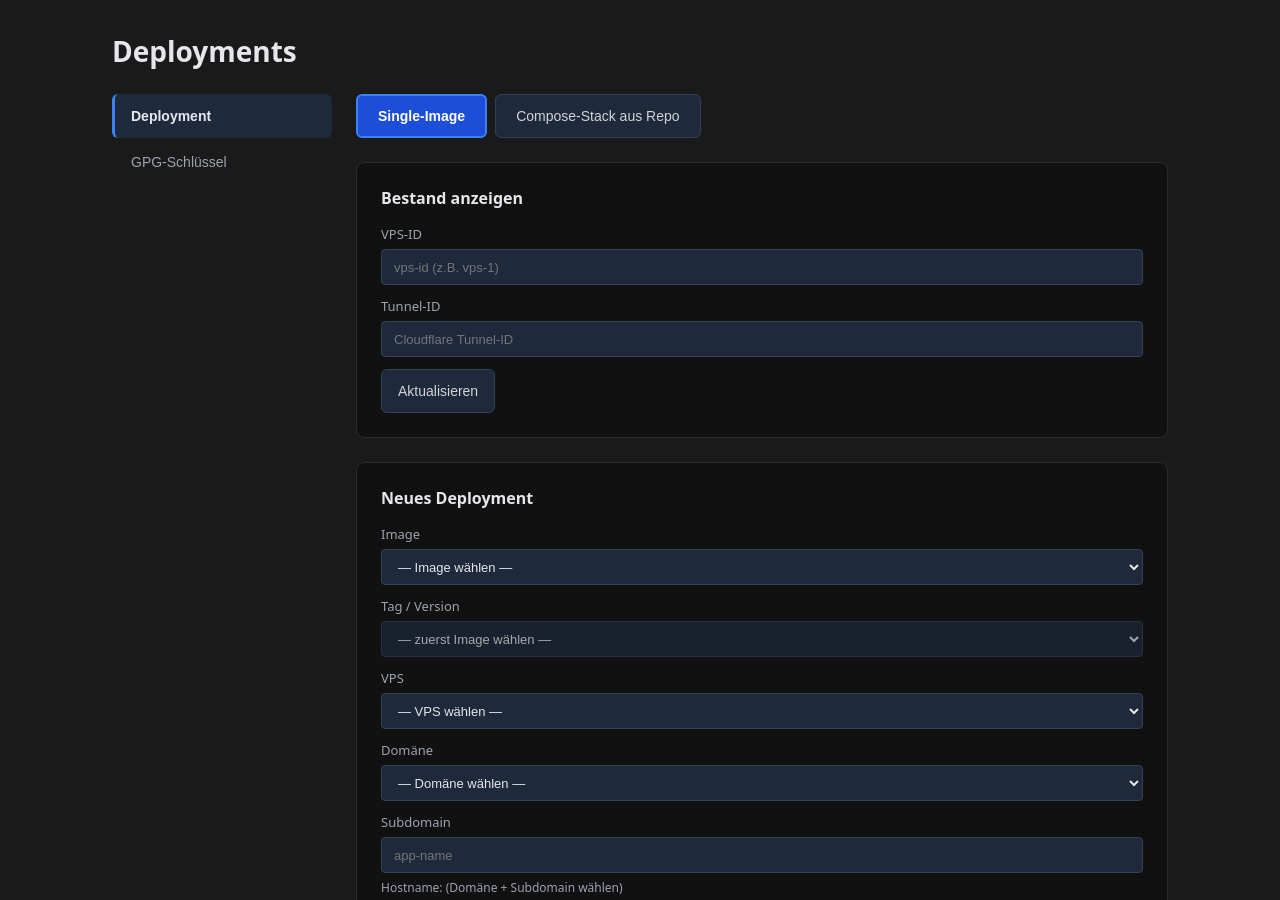
Test: AC9 — Readiness-Badge: Text je Zustand › shows "⏳ VPS wird hochgefahren…" for unreachable state
Select "vps-1" in the dropdown with id "deploy-vps-select" at point(762, 711), box [381, 693, 1143, 729]
Wait 100 ms
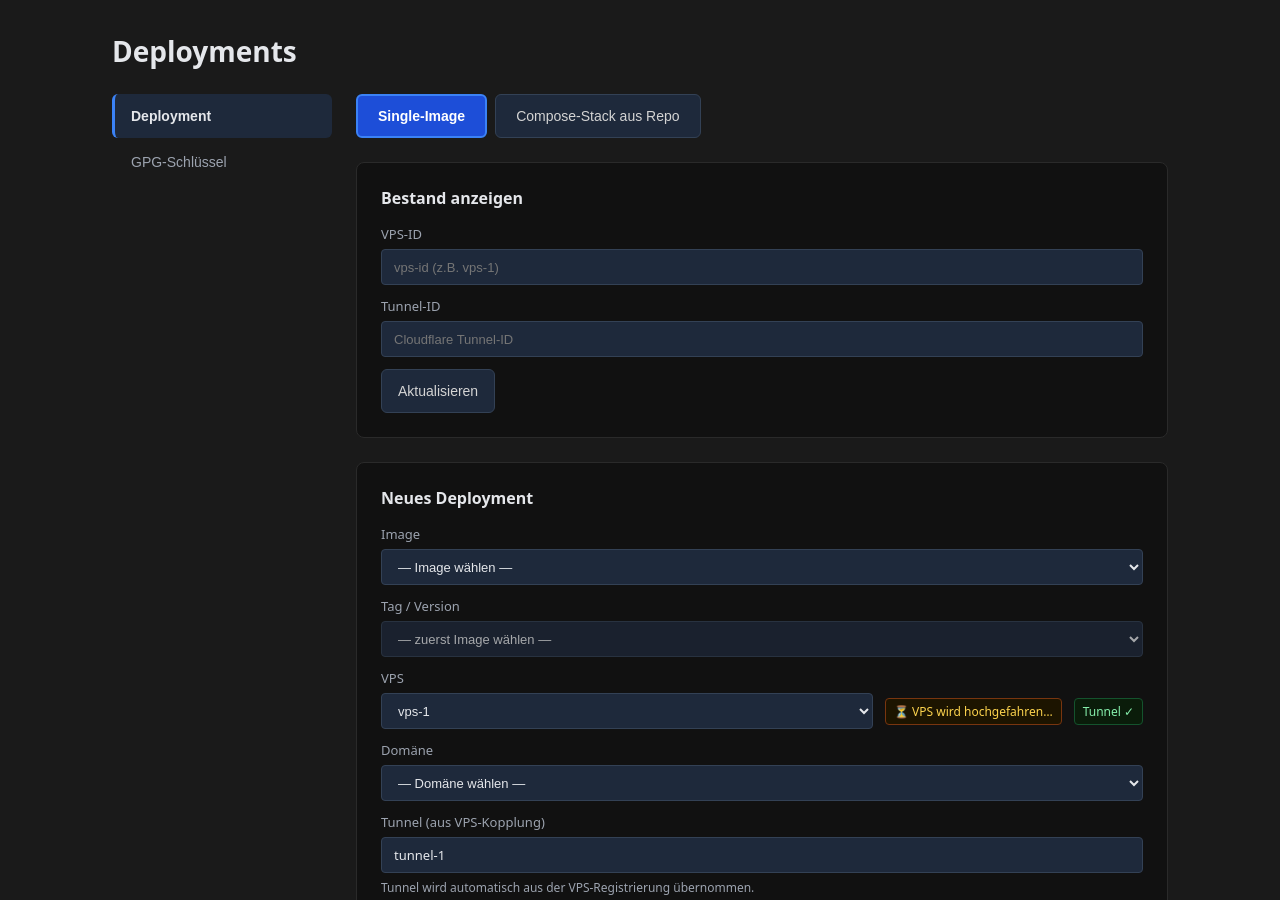
Check: the message "⏳ VPS wird hochgefahren…" is shown, box [885, 698, 1062, 724]
